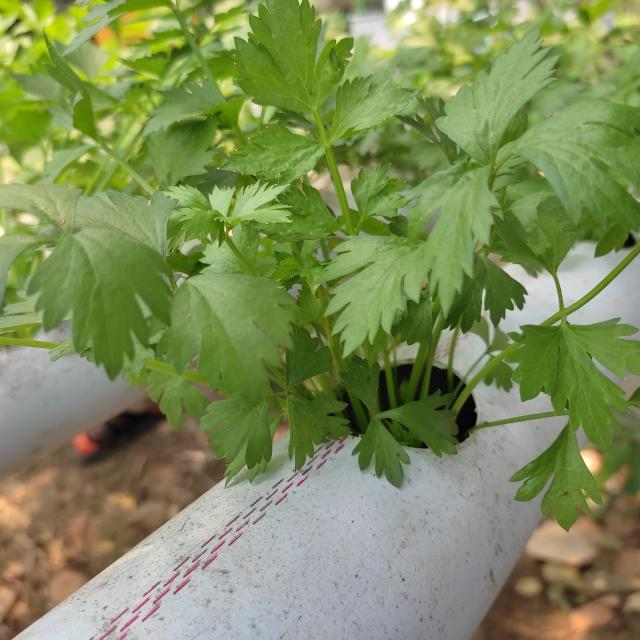Wet Waste: (37, 13, 635, 533)
